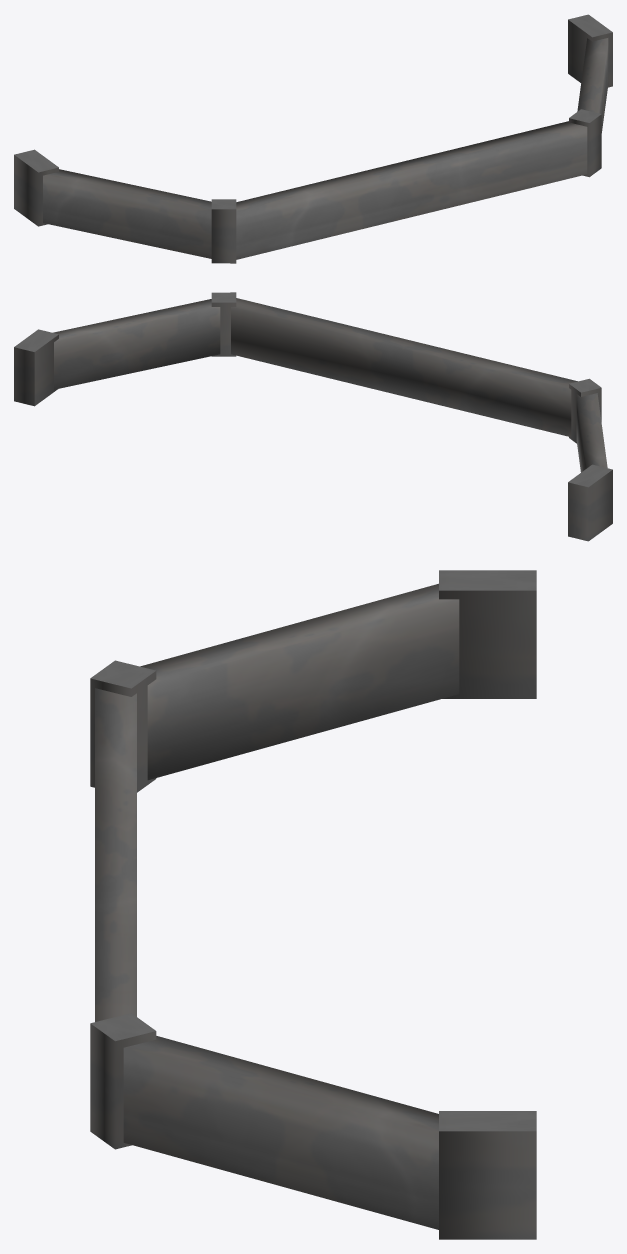
Rendered from Window_07_Trim.fbx.
The picture shows the model from 3 angles, top to bottom: view 1: azimuth 30°, elevation 25°; view 2: azimuth 150°, elevation 25°; view 3: azimuth 270°, elevation 25°; orthographic projection. The views are drawn at different scales.
Visible parts, largest first — view 1: Window_07_Trim; view 2: Window_07_Trim; view 3: Window_07_Trim.
Boxes of the visible parts, x1=… form: Window_07_Trim: x1=14, y1=14, x2=612, y2=263; Window_07_Trim: x1=14, y1=292, x2=612, y2=541; Window_07_Trim: x1=90, y1=570, x2=536, y2=1239.
Size of the model in its own units: 3.17 by 0.285 by 1.07.
